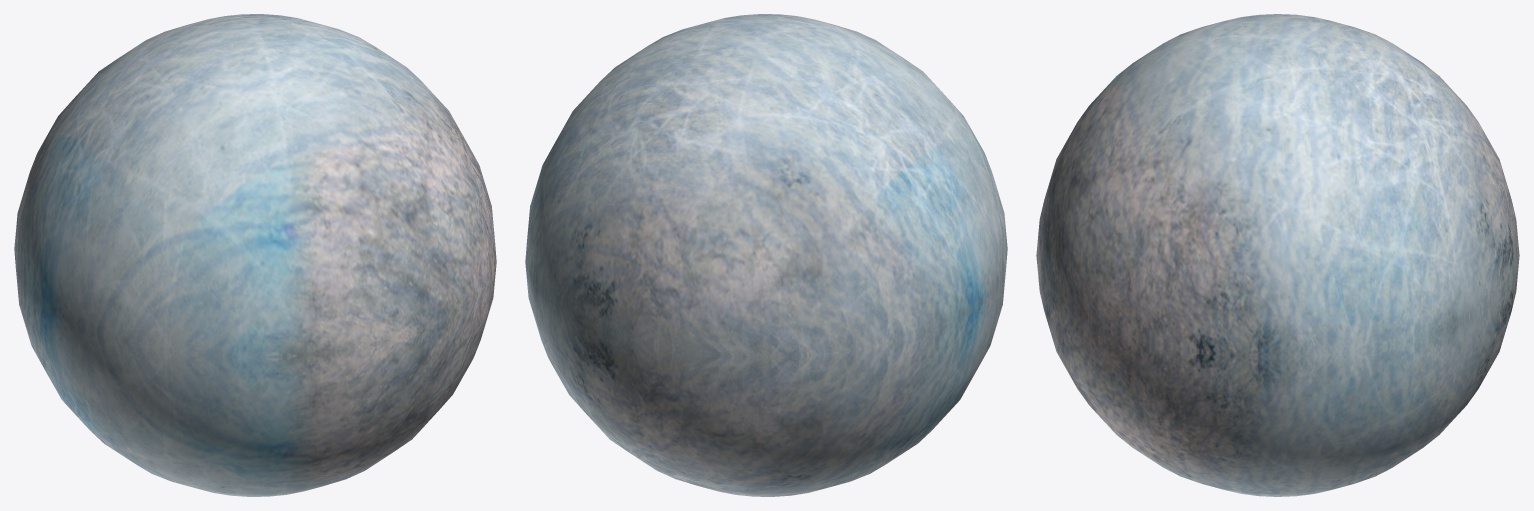
File: Ice_planet_3.FBX
3 views of the same model, side by side, from view 1: azimuth 30°, elevation 25°; view 2: azimuth 150°, elevation 25°; view 3: azimuth 270°, elevation 25° (orthographic).
Parts seen in each view (by area): view 1: Ice_planet_3; view 2: Ice_planet_3; view 3: Ice_planet_3.
Part boxes in pixels (x1,y1,x2,y2): Ice_planet_3: [14, 14, 496, 496]; Ice_planet_3: [525, 14, 1007, 496]; Ice_planet_3: [1036, 14, 1519, 496].
Bounding box in the file's own units: 69.73 × 69.73 × 69.73.
